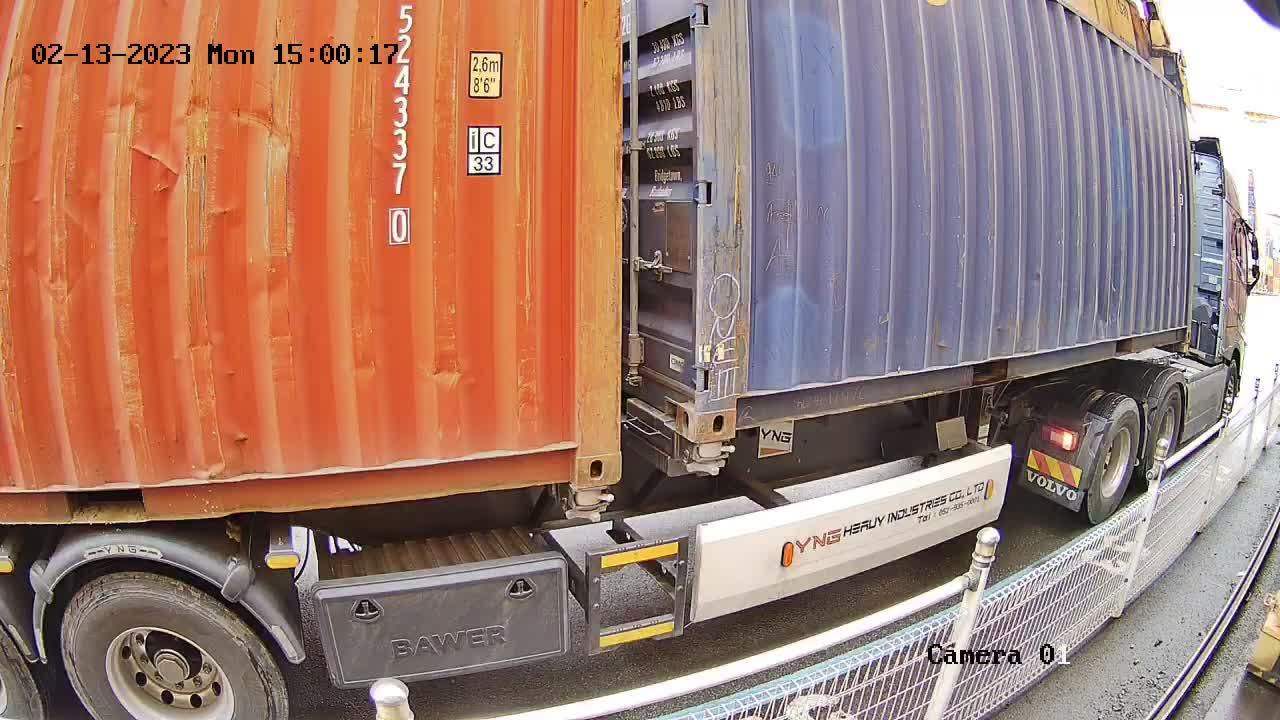Cone: (683, 441, 731, 475), (566, 486, 610, 522)
Hole_L: (697, 368, 769, 444)
Hole_R: (534, 413, 622, 491), (654, 362, 697, 444)
Tire: (63, 575, 286, 715), (1088, 400, 1141, 523), (1148, 384, 1183, 480)
